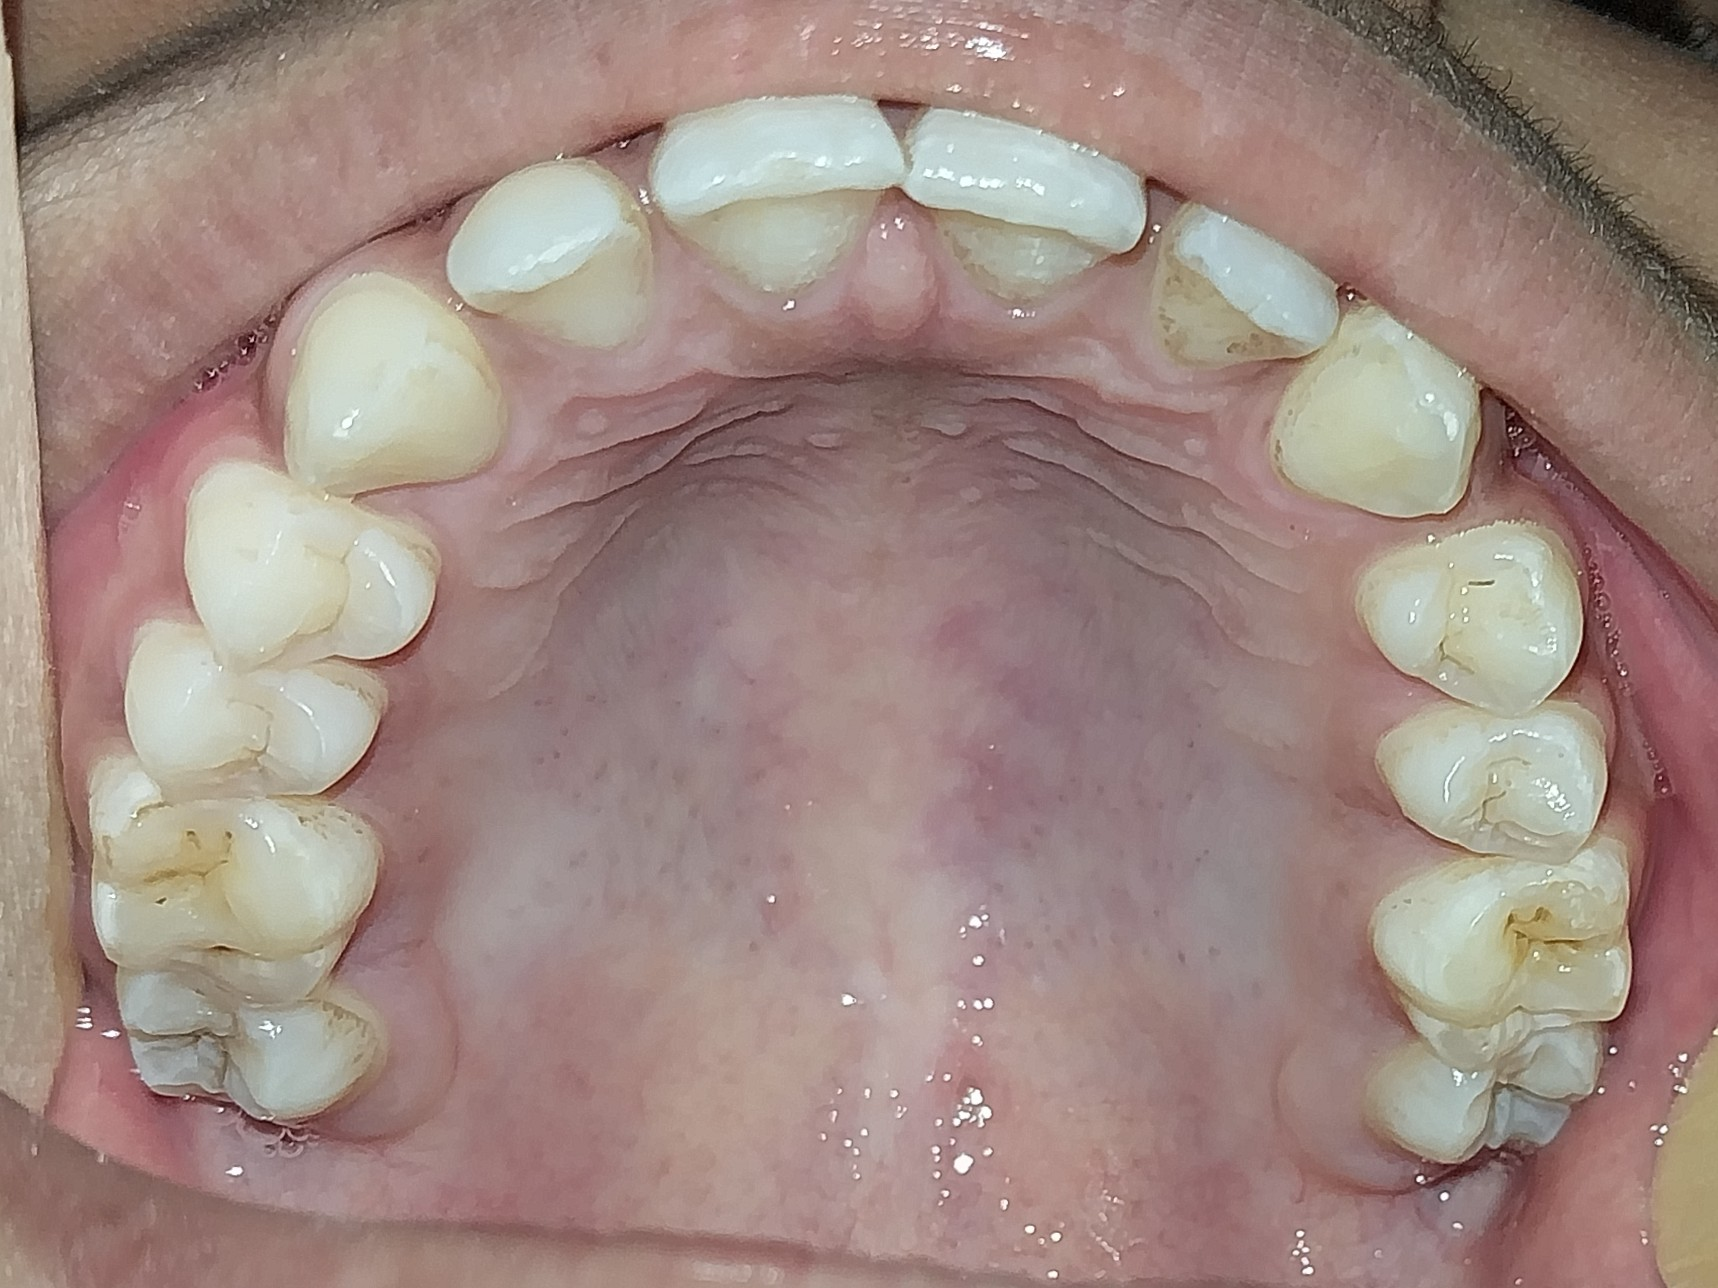D: (1360, 848, 1633, 1073)
